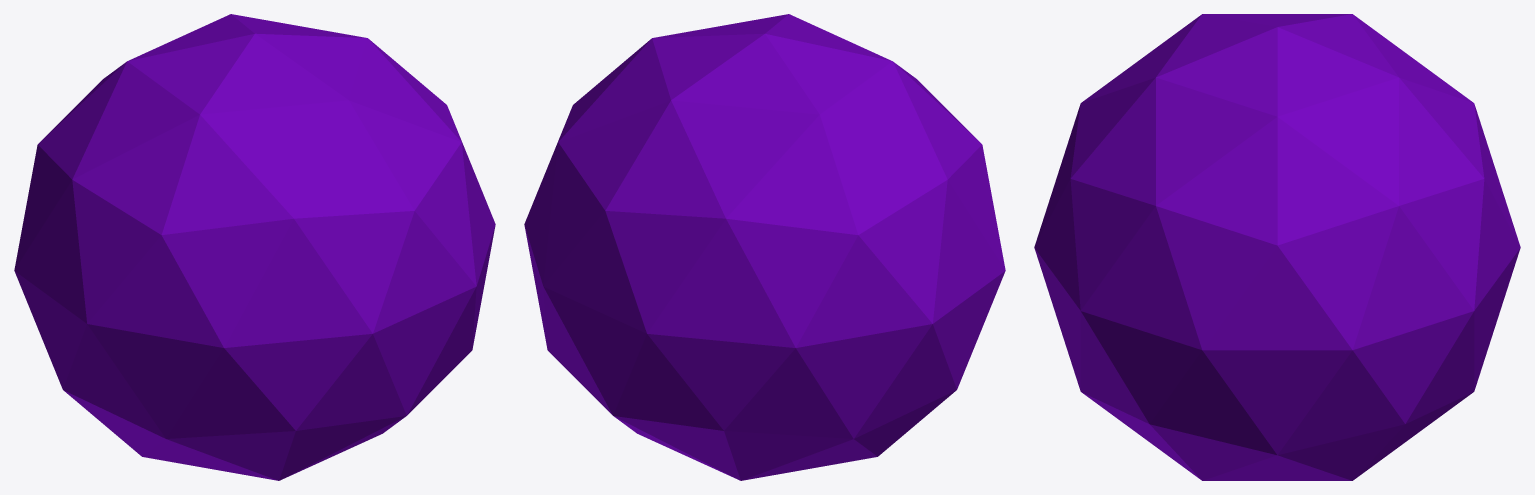
The model's file is AimTrajectoryPoint.fbx.
3 views of the same model, side by side, from view 1: azimuth 30°, elevation 25°; view 2: azimuth 150°, elevation 25°; view 3: azimuth 270°, elevation 25° (orthographic). The views are drawn at different scales.
Parts seen in each view (by area): view 1: AimTrajectoryPoint; view 2: AimTrajectoryPoint; view 3: AimTrajectoryPoint.
Part boxes in pixels (x1,y1,x2,y2): AimTrajectoryPoint: (14,14,495,480); AimTrajectoryPoint: (524,14,1005,480); AimTrajectoryPoint: (1034,14,1520,480).
Size of the model in its own units: 2 by 2 by 2.
